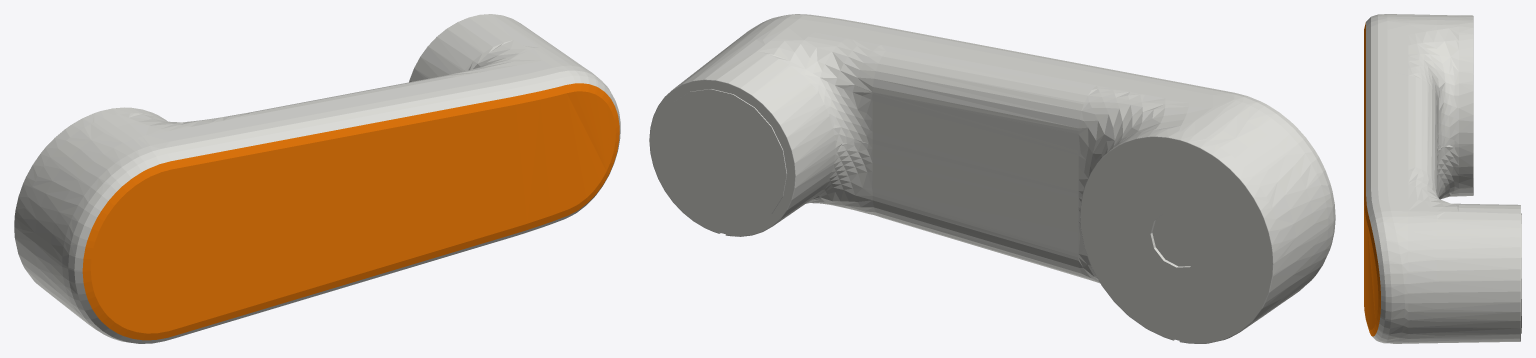
3 renders of one model, left to right at view 1: azimuth 30°, elevation 25°; view 2: azimuth 150°, elevation 25°; view 3: azimuth 270°, elevation 25°, orthographic. The views are drawn at different scales.
Parts seen in each view (by area): view 1: 3; view 2: 3; view 3: 3.
Boxes of the visible parts, box(x1,y1,x2,y2) form: 3: box(14, 14, 620, 343); 3: box(649, 14, 1335, 343); 3: box(1364, 14, 1521, 343).
Size of the model in its own units: 0.1917 by 0.063 by 0.0541.
